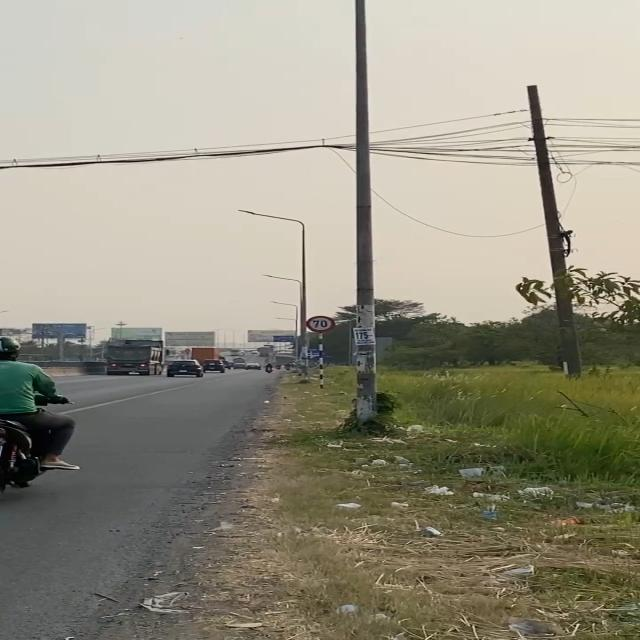127-toc-do-toi-da-70: (306, 315, 336, 333)
